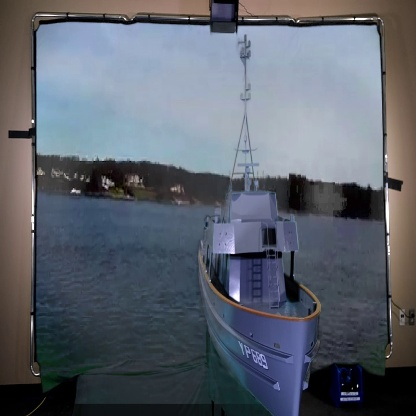YP689: (195, 36, 323, 416)
